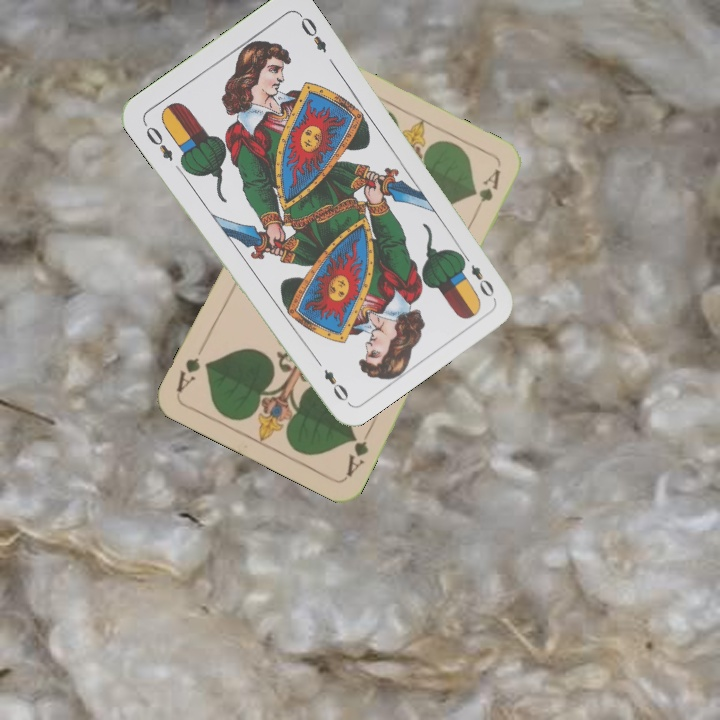EO: (456, 248, 497, 300), (139, 119, 176, 164)
GA: (342, 424, 373, 479)
